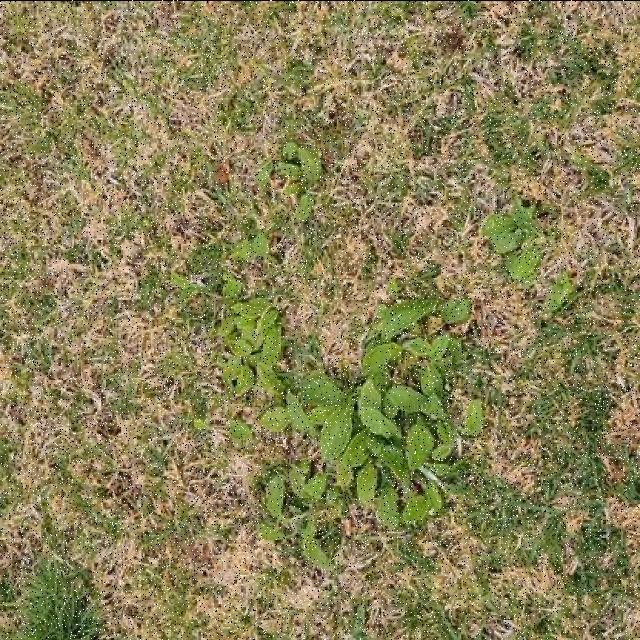weed: (217, 272, 486, 569), (482, 197, 547, 283), (258, 140, 322, 220)
